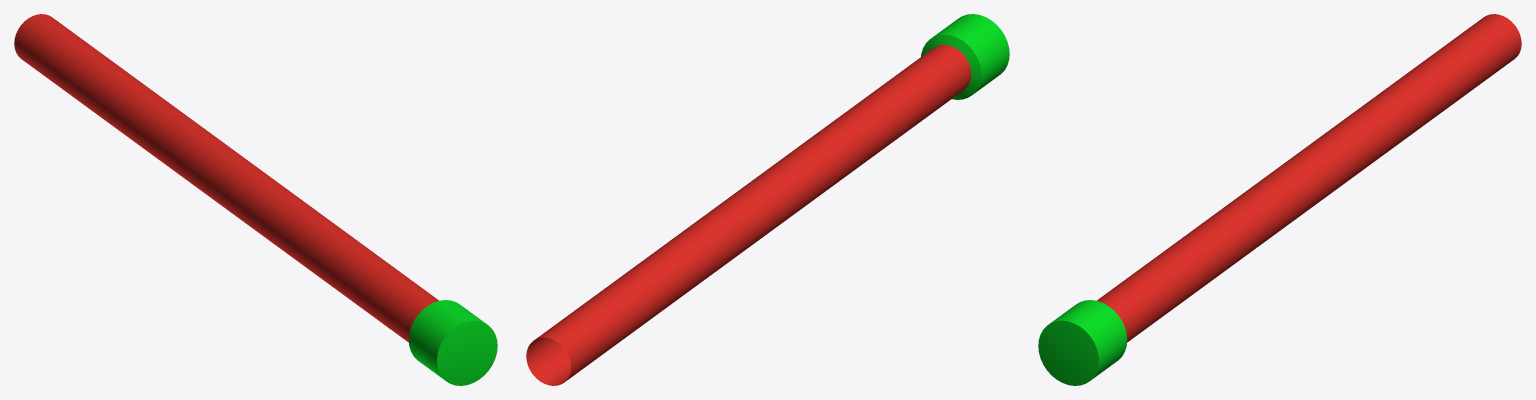
Rendered from LargePipe.fbx.
3 views of the same model, side by side, from view 1: azimuth 30°, elevation 25°; view 2: azimuth 150°, elevation 25°; view 3: azimuth 330°, elevation 25° (orthographic).
Parts seen in each view (by area): view 1: Pipe 3M; view 2: Pipe 3M; view 3: Pipe 3M.
Part boxes in pixels (x1,y1,x2,y2): Pipe 3M: (14, 14, 497, 385); Pipe 3M: (526, 14, 1009, 385); Pipe 3M: (1038, 14, 1521, 385).
Size of the model in its own units: 48.63 by 48.63 by 599.
